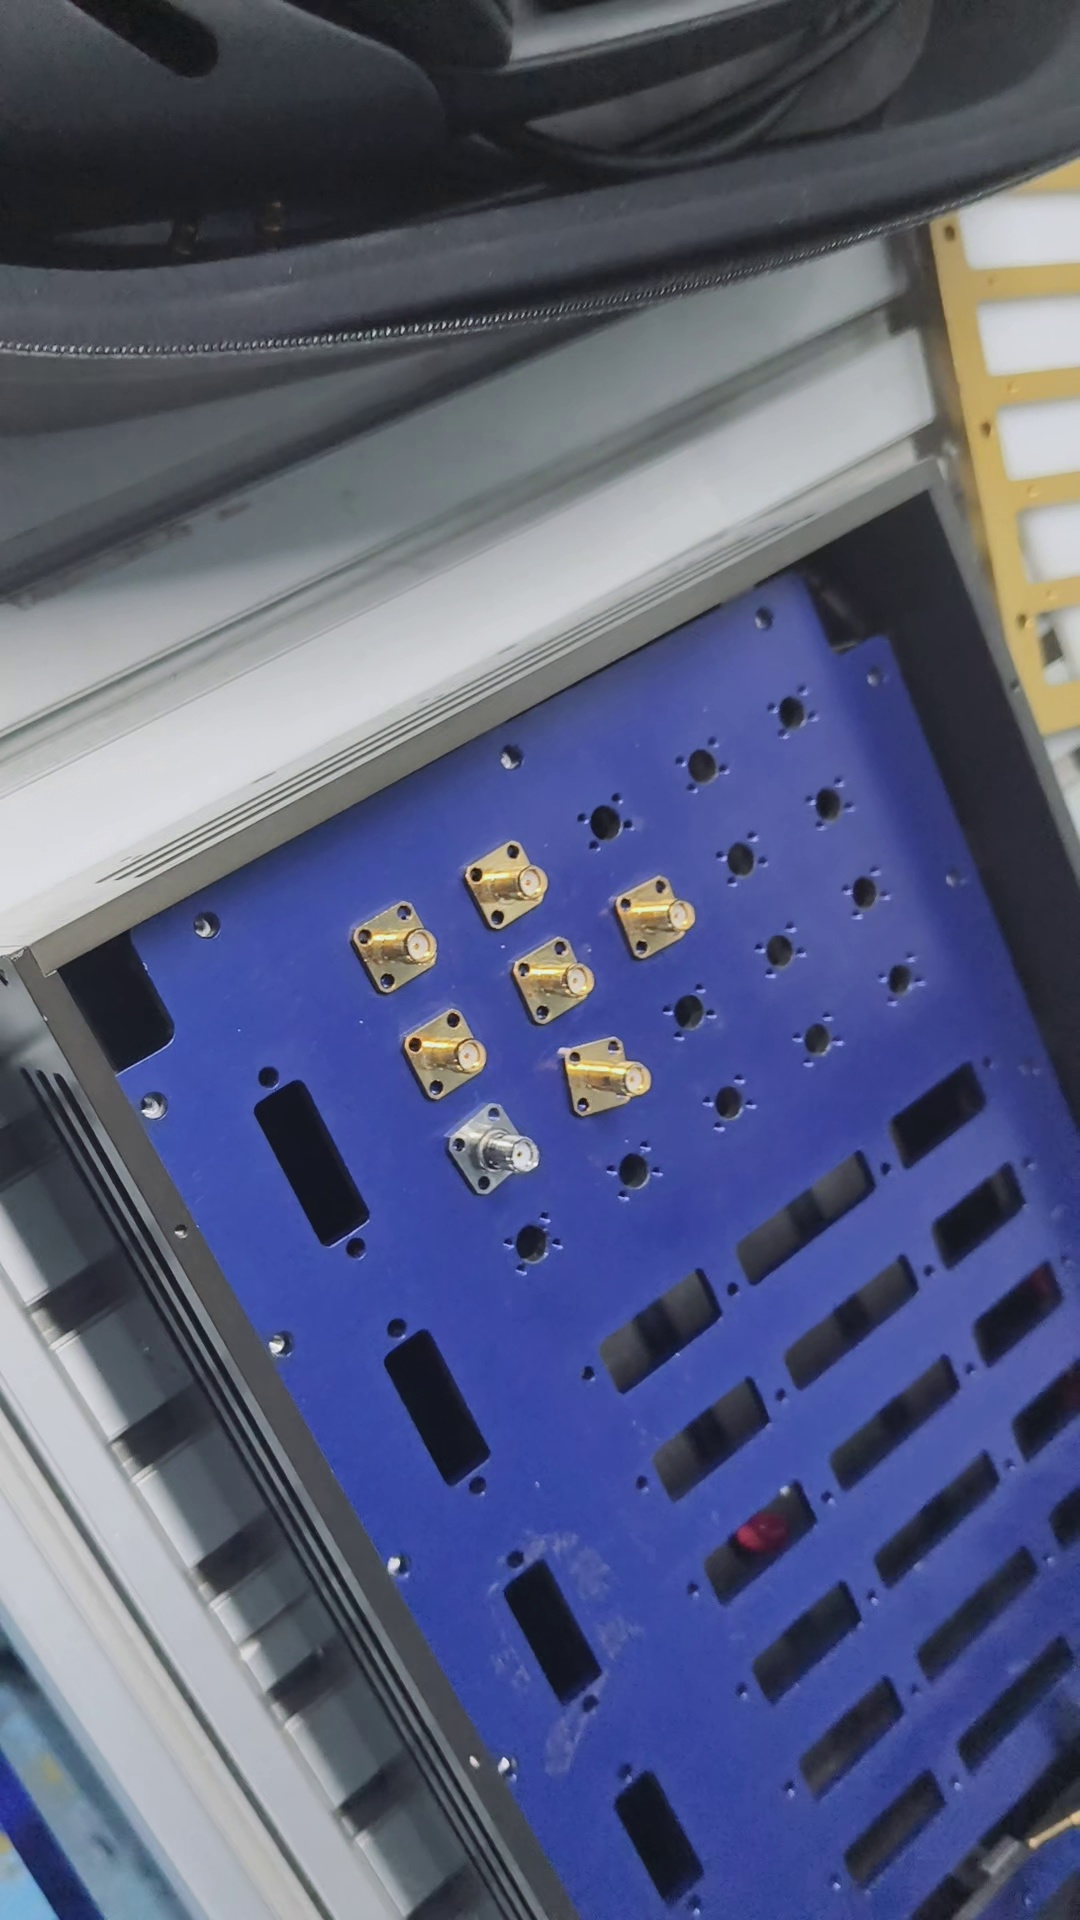SMA: (440, 1096, 543, 1197), (343, 891, 440, 994), (400, 1002, 498, 1100), (509, 936, 603, 1029), (467, 837, 555, 926), (613, 874, 699, 964), (560, 1038, 647, 1116)
